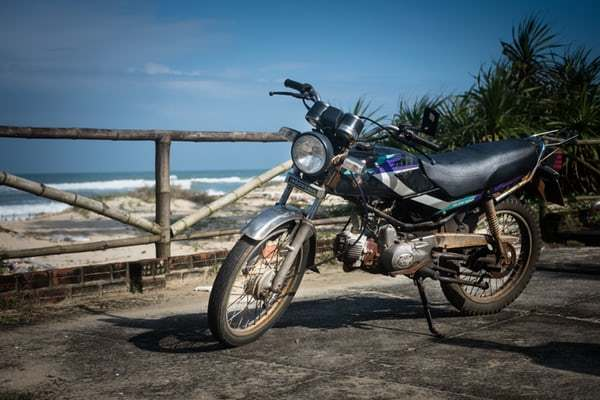29_label: (203, 63, 566, 346)
